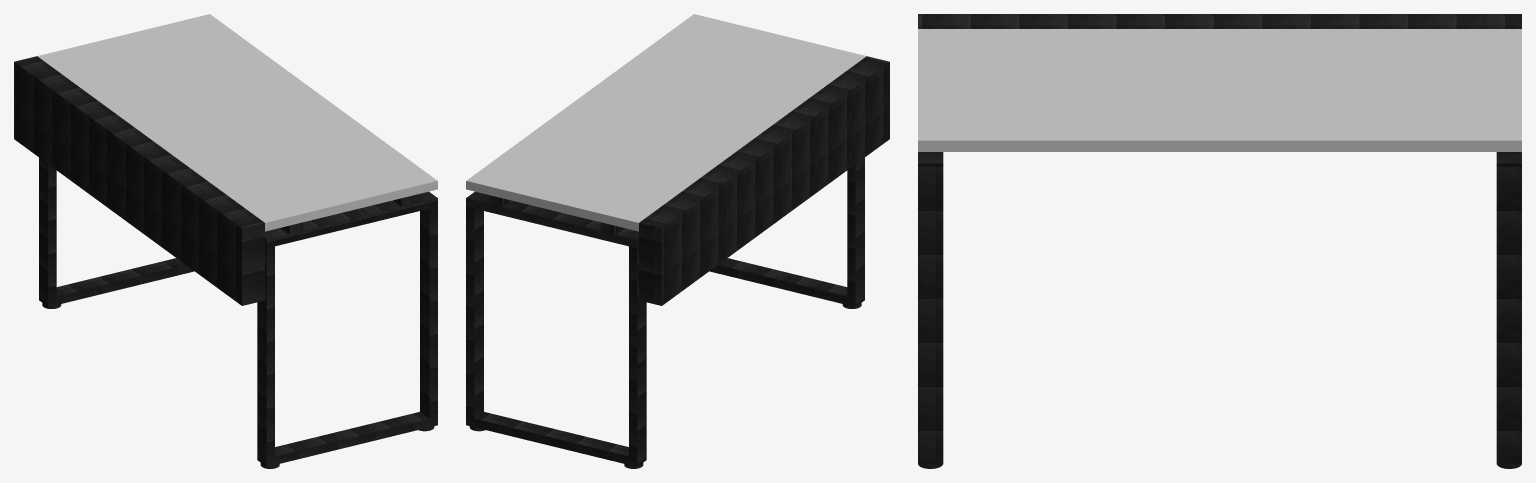
The model's file is pc_desk.dae.
3 views of the same model, side by side, from view 1: azimuth 30°, elevation 25°; view 2: azimuth 150°, elevation 25°; view 3: azimuth 270°, elevation 25° (orthographic). The views are drawn at different scales.
Visible parts, largest first — view 1: Foot, Top; view 2: Foot, Top; view 3: Top, Foot.
Part boxes in pixels (x1=…): Foot: x1=14, y1=56, x2=437, y2=468; Top: x1=37, y1=14, x2=437, y2=231; Foot: x1=466, y1=56, x2=889, y2=468; Top: x1=466, y1=14, x2=866, y2=231; Top: x1=918, y1=29, x2=1521, y2=151; Foot: x1=918, y1=14, x2=1521, y2=468.
Bounding box in the file's own units: 0.595 × 1.2 × 0.72.
